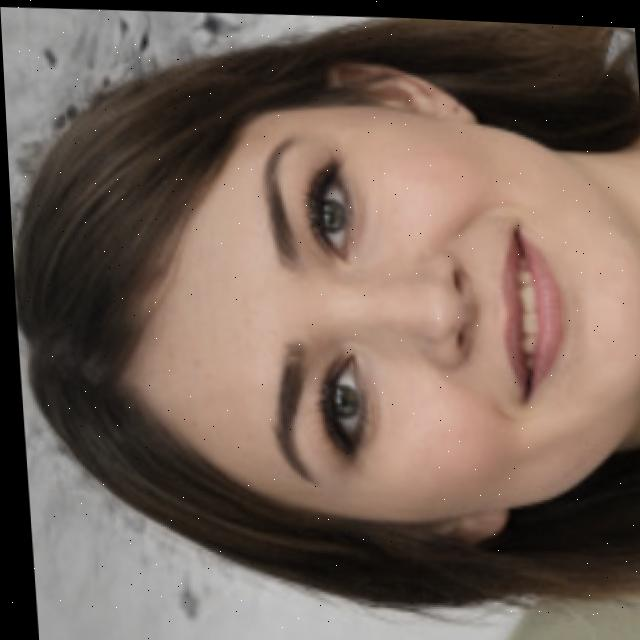happy: (1, 29, 640, 618)
